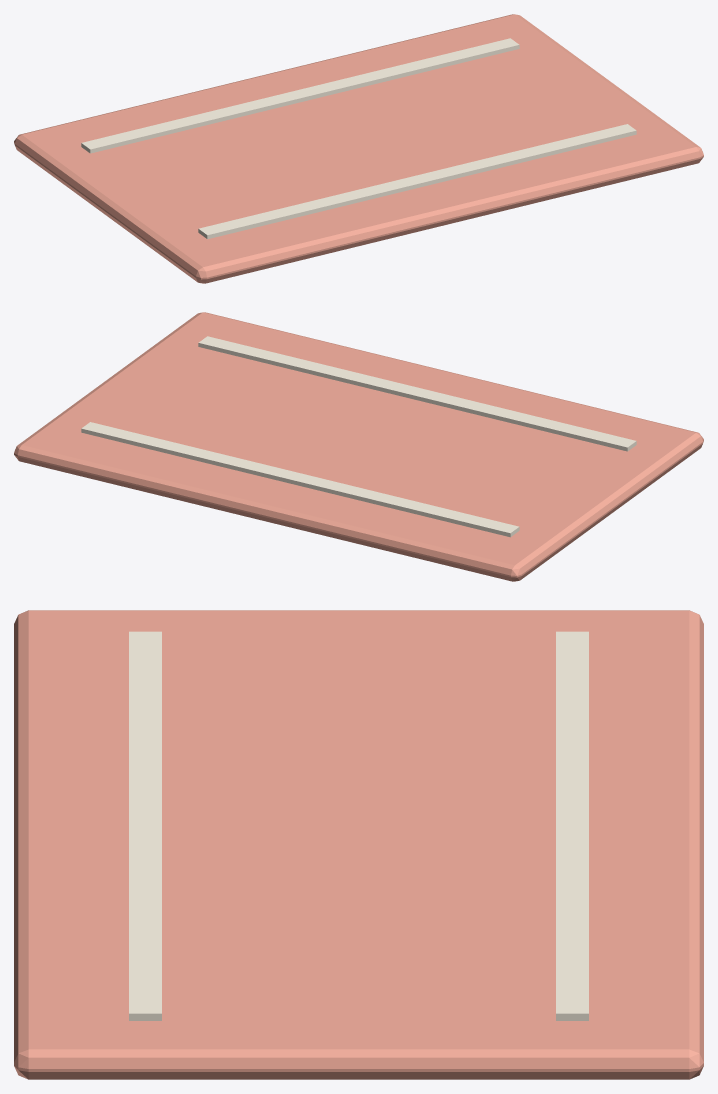
Rendered from cozy-home-interiors-bath-mat-a5af83c6.glb.
3 views of the same model, one above another, from view 1: azimuth 30°, elevation 25°; view 2: azimuth 150°, elevation 25°; view 3: azimuth 270°, elevation 25° (orthographic). The views are drawn at different scales.
Parts seen in each view (by area): view 1: bath-mat; view 2: bath-mat; view 3: bath-mat.
Boxes of the visible parts, left/top/right/bottom form: bath-mat: left=14, top=14, right=703, bottom=283; bath-mat: left=14, top=312, right=703, bottom=581; bath-mat: left=14, top=610, right=703, bottom=1079.
Size of the model in its own units: 0.65 by 0.025 by 0.42.
